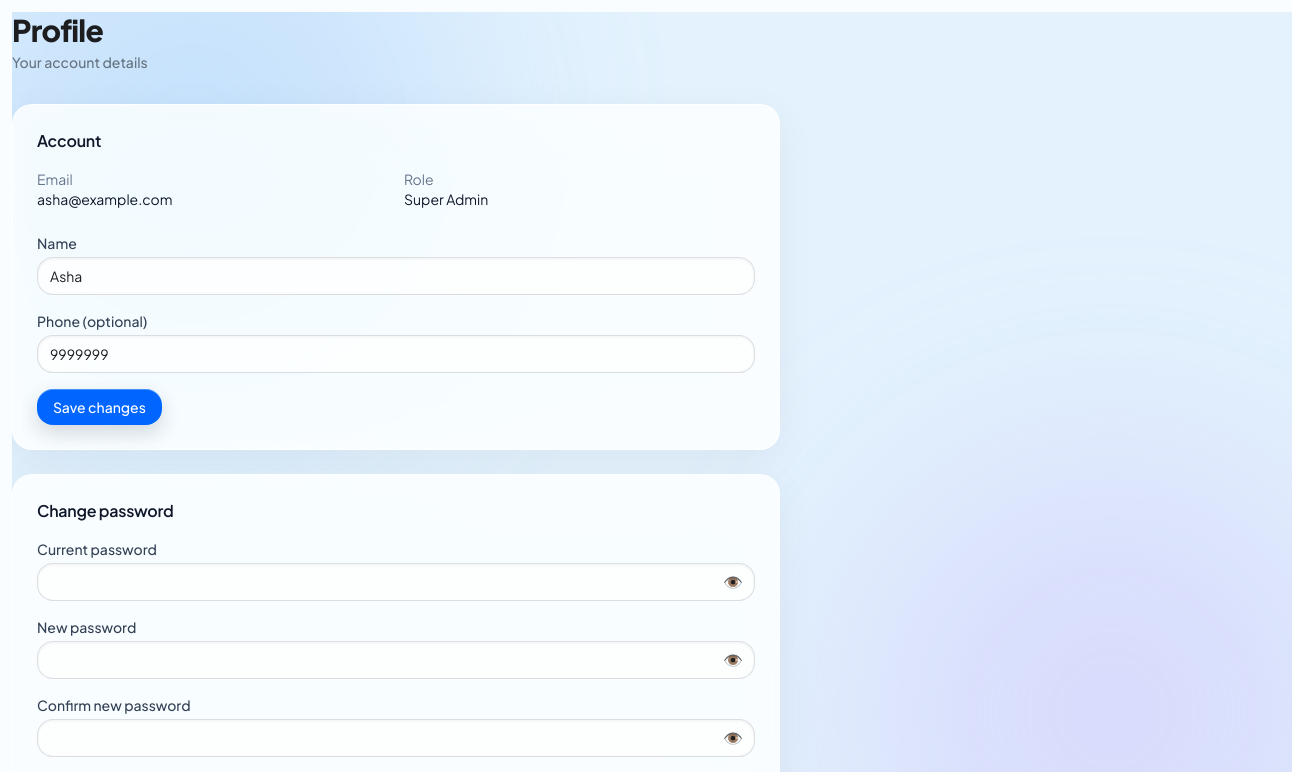
ProfilePage › saves only name and phone via PATCH /profile
This screenshot has width=1292, height=772.
Replace the text in the field labelled "Name" with "Asha K" at (396, 276), box [37,257,755,295]
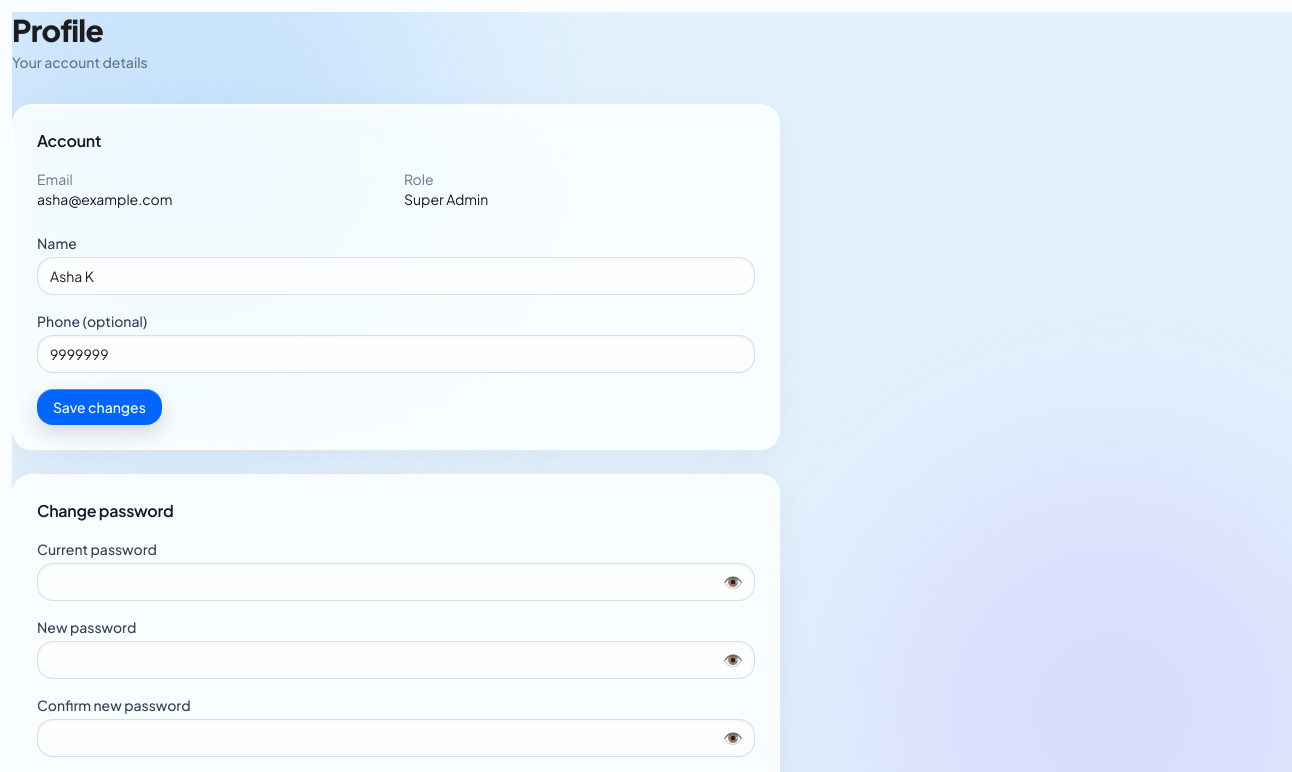
Clear the field labelled "Phone (optional)" at (396, 354), box [37,335,755,373]
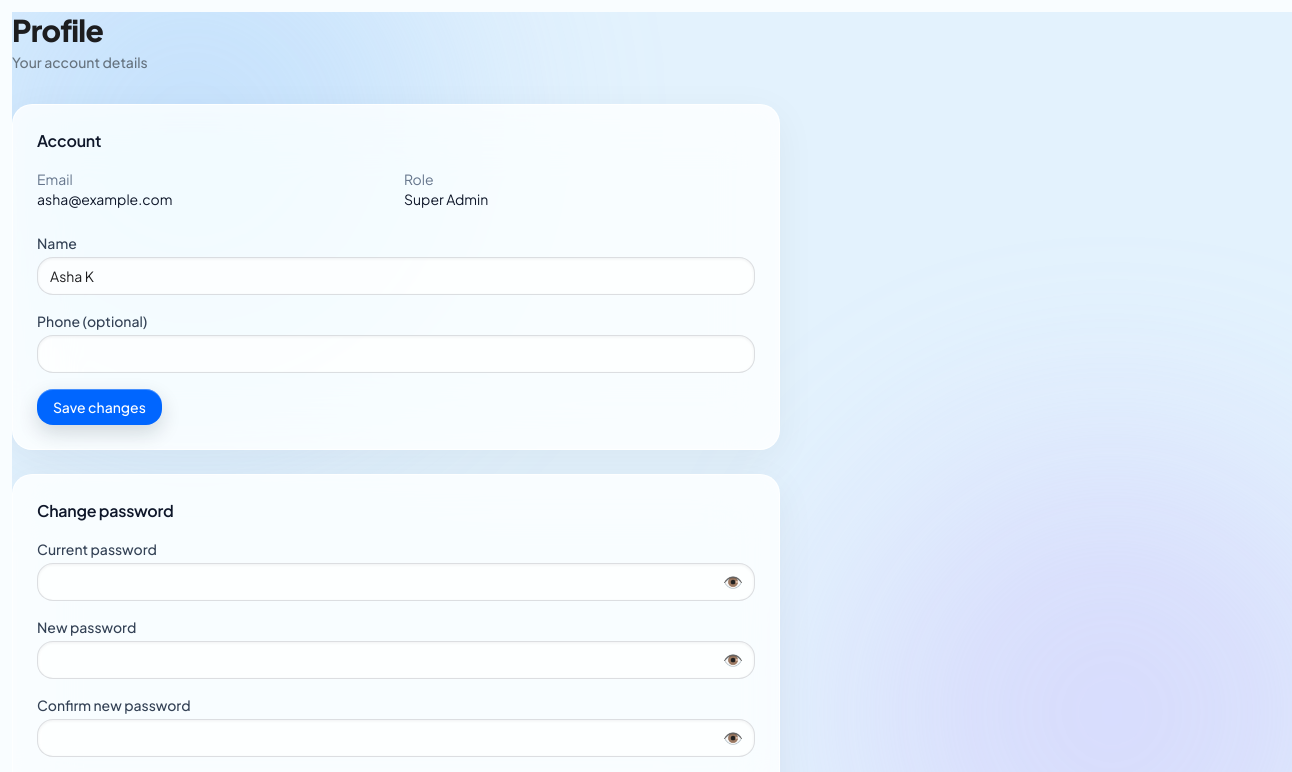
Click the button "Save changes".
click(99, 407)  # box [37,389,162,425]
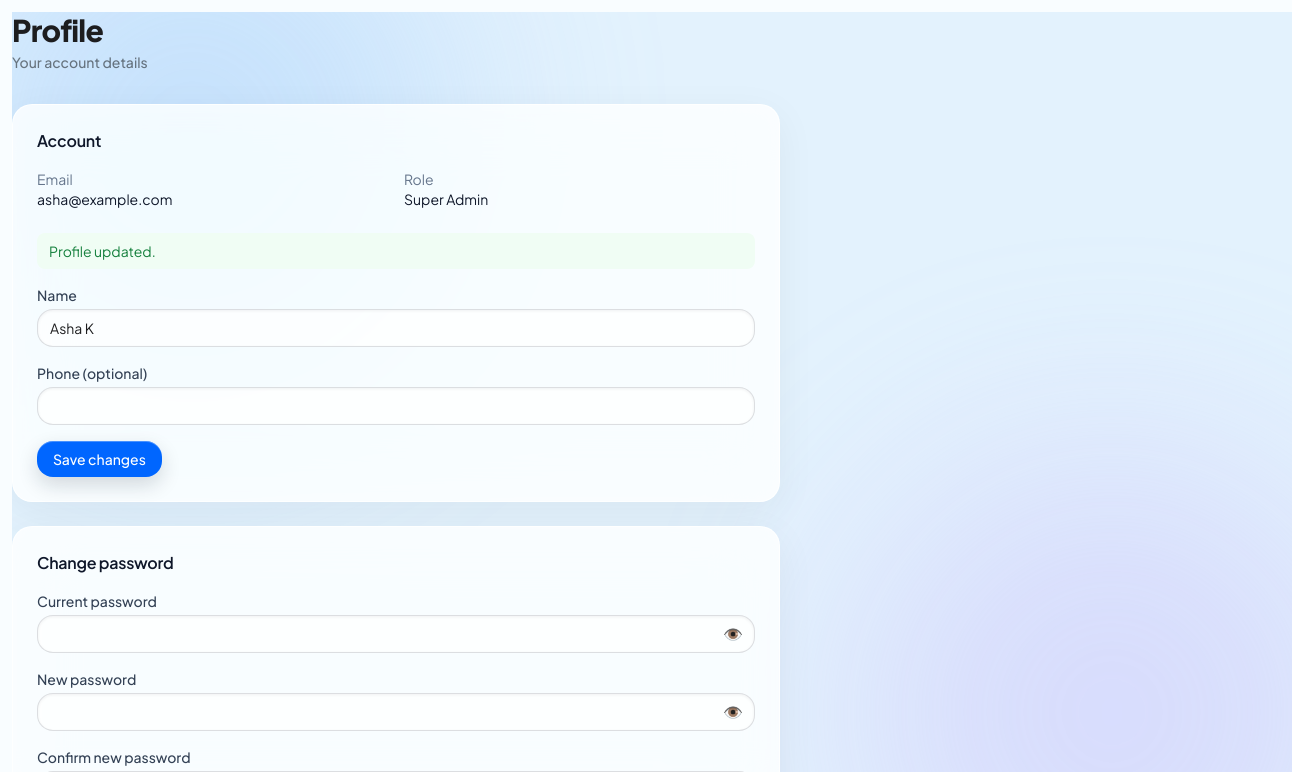
Check: the text "Profile updated." is shown, box [37,233,755,269]
